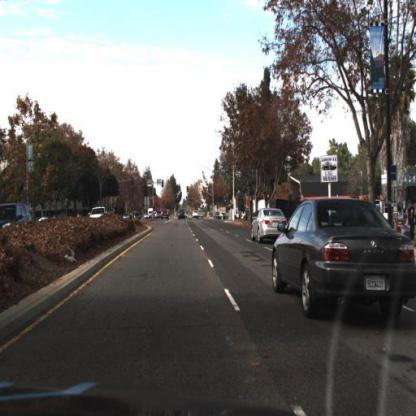car: (271, 195, 416, 322), (251, 208, 288, 245), (1, 203, 35, 239), (90, 206, 112, 226), (159, 206, 170, 221), (179, 211, 187, 222), (193, 210, 201, 220)
